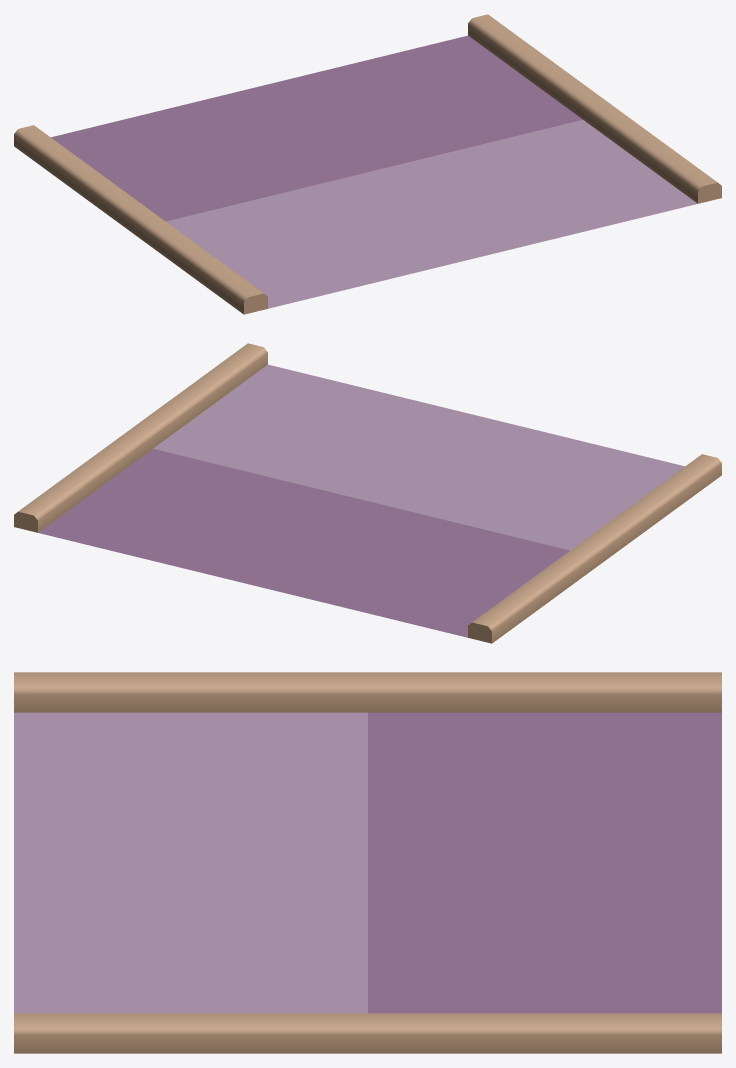
The model's file is LuffyRoad_Straight.fbx.
The picture shows the model from 3 angles, top to bottom: view 1: azimuth 30°, elevation 25°; view 2: azimuth 150°, elevation 25°; view 3: azimuth 270°, elevation 25°; orthographic projection. The views are drawn at different scales.
Visible parts, largest first — view 1: LUFFY_Road_polySurface7, LUFFY_Road_polySurface1256, LUFFY_Road_polySurface8, LUFFY_Road_polySurface10; view 2: LUFFY_Road_polySurface1256, LUFFY_Road_polySurface7, LUFFY_Road_polySurface8, LUFFY_Road_polySurface10; view 3: LUFFY_Road_polySurface7, LUFFY_Road_polySurface1256, LUFFY_Road_polySurface8, LUFFY_Road_polySurface10.
Part boxes in pixels (x1,y1,x2,y2): LUFFY_Road_polySurface7: (166,120,697,308); LUFFY_Road_polySurface1256: (51,35,582,221); LUFFY_Road_polySurface8: (14,125,267,314); LUFFY_Road_polySurface10: (468,14,721,203); LUFFY_Road_polySurface1256: (38,449,569,637); LUFFY_Road_polySurface7: (153,364,684,550); LUFFY_Road_polySurface8: (468,454,721,643); LUFFY_Road_polySurface10: (14,343,267,532); LUFFY_Road_polySurface7: (14,712,367,1013); LUFFY_Road_polySurface1256: (368,712,721,1013); LUFFY_Road_polySurface8: (14,672,721,712); LUFFY_Road_polySurface10: (14,1013,721,1053).
Bounding box in the file's own units: 600 × 19.65 × 500.
